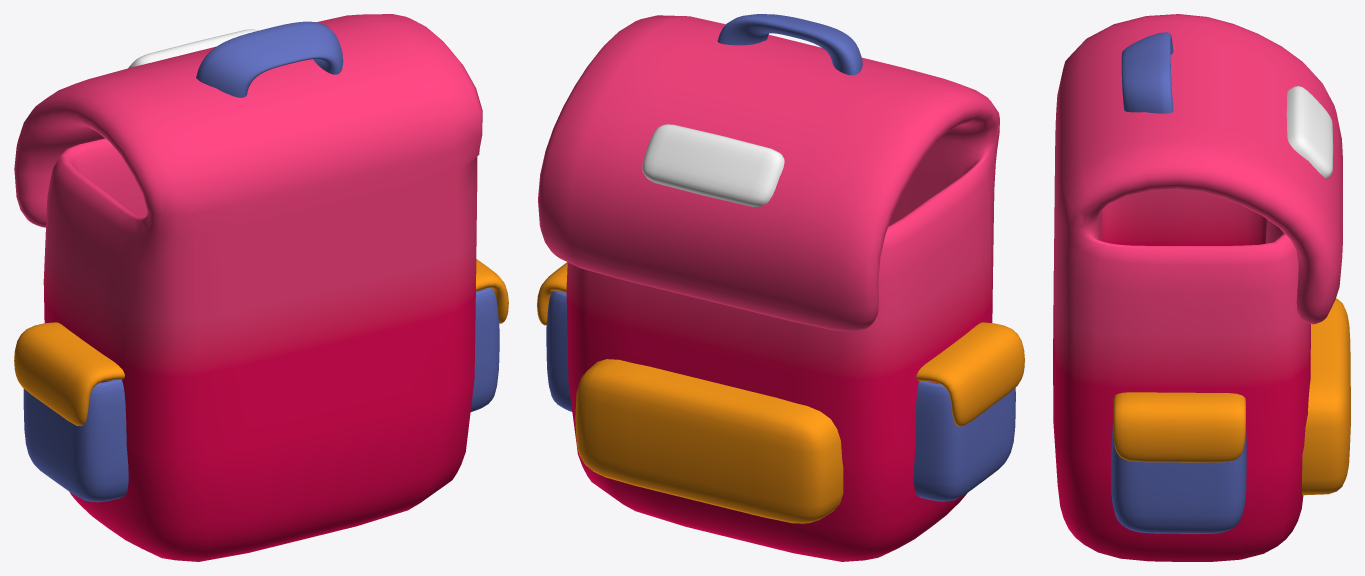
The model's file is Player_Backpag_Whole.fbx.
The picture shows the model from 3 angles, left to right: view 1: azimuth 30°, elevation 25°; view 2: azimuth 150°, elevation 25°; view 3: azimuth 270°, elevation 25°; orthographic projection. The views are drawn at different scales.
Visible parts, largest first — view 1: Player_Backpag_Pink; view 2: Player_Backpag_Pink; view 3: Player_Backpag_Pink.
Part boxes in pixels (x1,y1,x2,y2): Player_Backpag_Pink: [14, 14, 508, 561]; Player_Backpag_Pink: [537, 14, 1024, 561]; Player_Backpag_Pink: [1053, 14, 1350, 561].
Size of the model in its own units: 1.15 by 1.25 by 0.7214.
